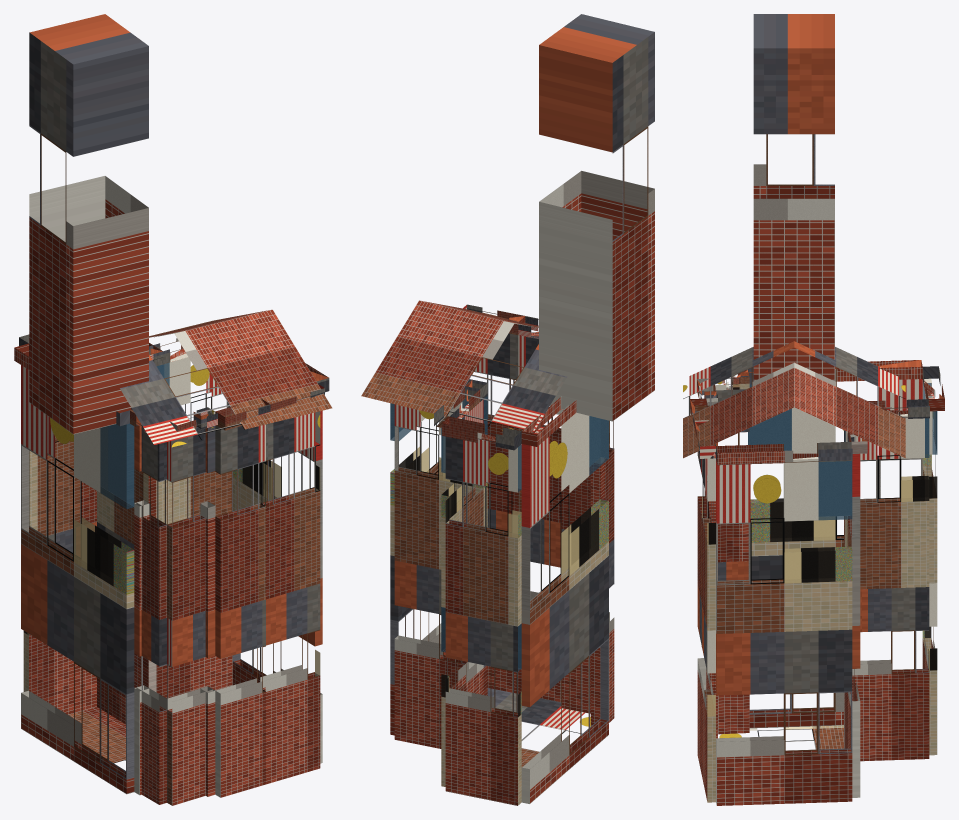
The picture shows the model from 3 angles, left to right: view 1: azimuth 30°, elevation 25°; view 2: azimuth 150°, elevation 25°; view 3: azimuth 270°, elevation 25°; orthographic projection. The views are drawn at different scales.
Visible parts, largest first — view 1: 392629497__chimney_0_xb, 392629497__wall_10_xb, 392629497__wall_4_xb, 392629497__wall_5_xb, 392629497_roof_-1_xb, 392629497__wall_7_xb, 392629497__wall_0_xb, 392629497__wall_8_xb, 392629497__wall_2_xb, 392629497__wall_10_xf, 392629497__wall_3_xb, 392629497__wall_1_xb (+5 smaller); view 2: 392629497__chimney_0_xb, 392629497__wall_0_xb, 392629497__wall_10_xb, 392629497__wall_2_xb, 392629497_roof_1_xb, 392629497__wall_1_xb, 392629497__wall_4_xb, 392629497__wall_10_xf, 392629497__wall_5_xb, 392629497__wall_3_xb, 392629497__wall_7_xb, 392629497__base (+8 smaller); view 3: 392629497__wall_3_xb, 392629497__chimney_0_xb, 392629497__wall_1_xb, 392629497__wall_10_xb, 392629497_roof_1_xb, 392629497_roof_-1_xb, 392629497__wall_3_xf, 392629497__wall_4_xb, 392629497__wall_2_xb, 392629497__wall_10_xf, 392629497__wall_0_xb, 392629497__wall_8_xb (+8 smaller).
Part boxes in pixels (x1,y1,x2,y2): 392629497__chimney_0_xb: (29,14,148,434); 392629497__wall_10_xb: (21,365,134,794); 392629497__wall_4_xb: (260,411,320,784); 392629497__wall_5_xb: (215,424,265,797); 392629497_roof_-1_xb: (120,309,332,447); 392629497__wall_7_xb: (167,427,212,805); 392629497__wall_0_xb: (23,437,96,714); 392629497__wall_8_xb: (136,424,166,804); 392629497__wall_2_xb: (143,353,232,698); 392629497__wall_10_xf: (74,424,133,593); 392629497__wall_3_xb: (232,410,322,763); 392629497__wall_1_xb: (97,468,156,724); 392629497__chimney_0_xb: (539,14,654,421); 392629497__wall_0_xb: (445,436,521,805); 392629497__wall_10_xb: (521,409,608,803); 392629497__wall_2_xb: (394,396,487,748); 392629497_roof_1_xb: (361,300,566,431); 392629497__wall_1_xb: (441,396,487,786); 392629497__wall_4_xb: (474,333,518,693); 392629497__wall_10_xf: (561,416,608,574); 392629497__wall_5_xb: (518,335,561,702); 392629497__wall_3_xb: (390,403,445,735); 392629497__wall_7_xb: (561,420,609,713); 392629497__base: (487,688,590,767); 392629497__wall_3_xb: (716,457,852,805); 392629497__chimney_0_xb: (753,14,834,380); 392629497__wall_1_xb: (844,414,929,761); 392629497__wall_10_xb: (748,379,922,728); 392629497_roof_1_xb: (794,341,905,458); 392629497_roof_-1_xb: (683,341,794,458); 392629497__wall_3_xf: (784,461,851,582); 392629497__wall_4_xb: (702,445,715,802); 392629497__wall_2_xb: (844,431,860,797); 392629497__wall_10_xf: (748,384,835,542); 392629497__wall_0_xb: (922,378,937,755); 392629497__wall_8_xb: (716,386,749,734).
Size of the model in its own units: 0.4684 by 1.4 by 0.4827.
1 material, 1 textured.
